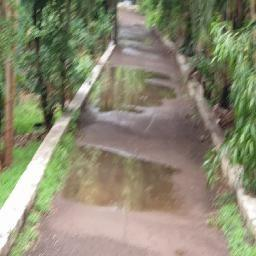water accumulation: (60, 144, 180, 212), (86, 66, 177, 114)
